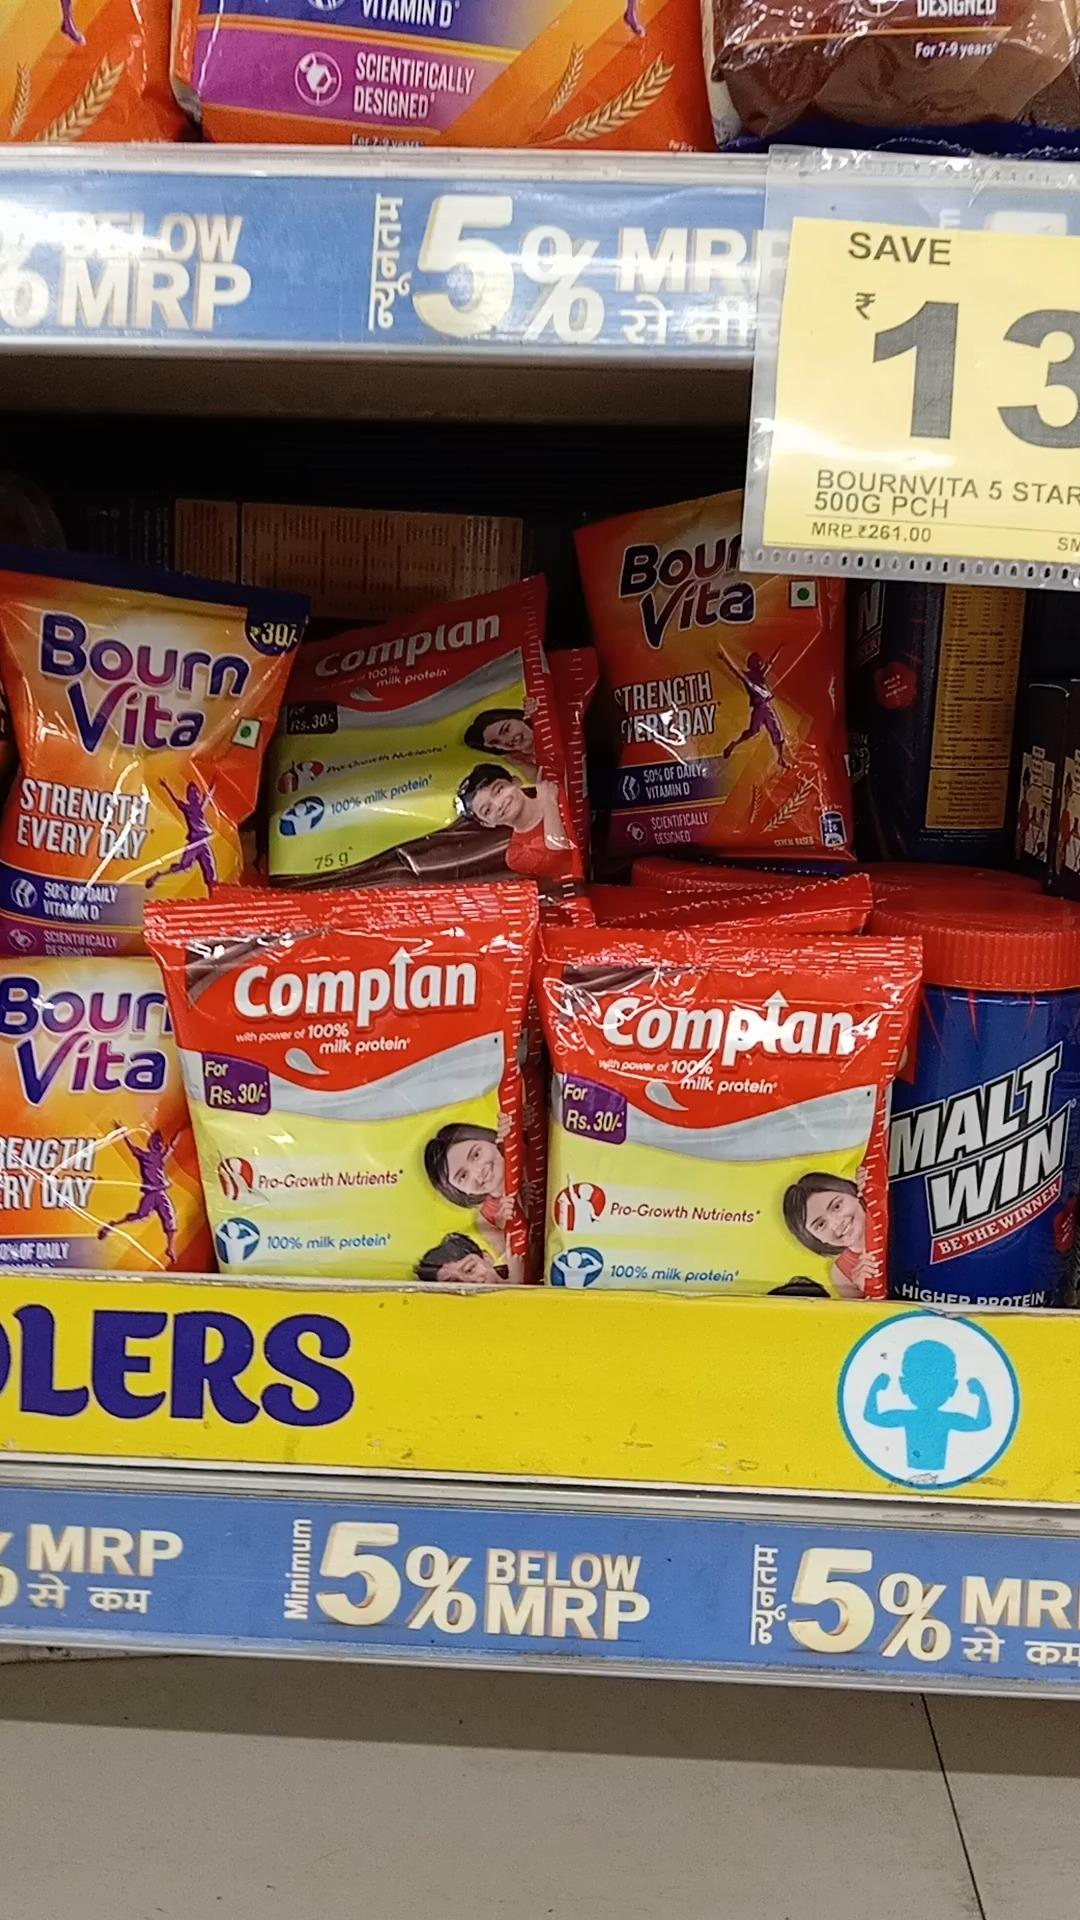BOURN_VITA_75_G_POUCH: (599, 496, 837, 858), (3, 583, 272, 882)
